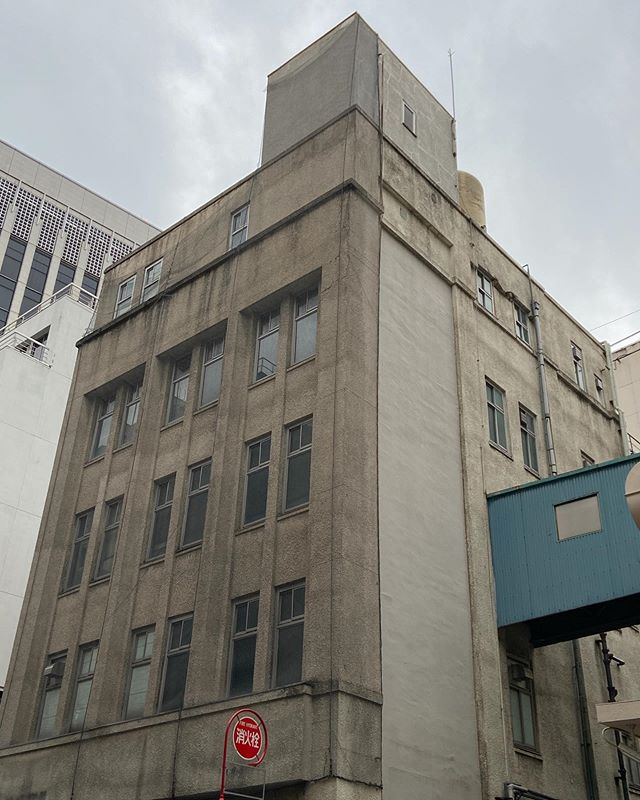building: (17, 102, 625, 799)
sky: (15, 1, 640, 271)
